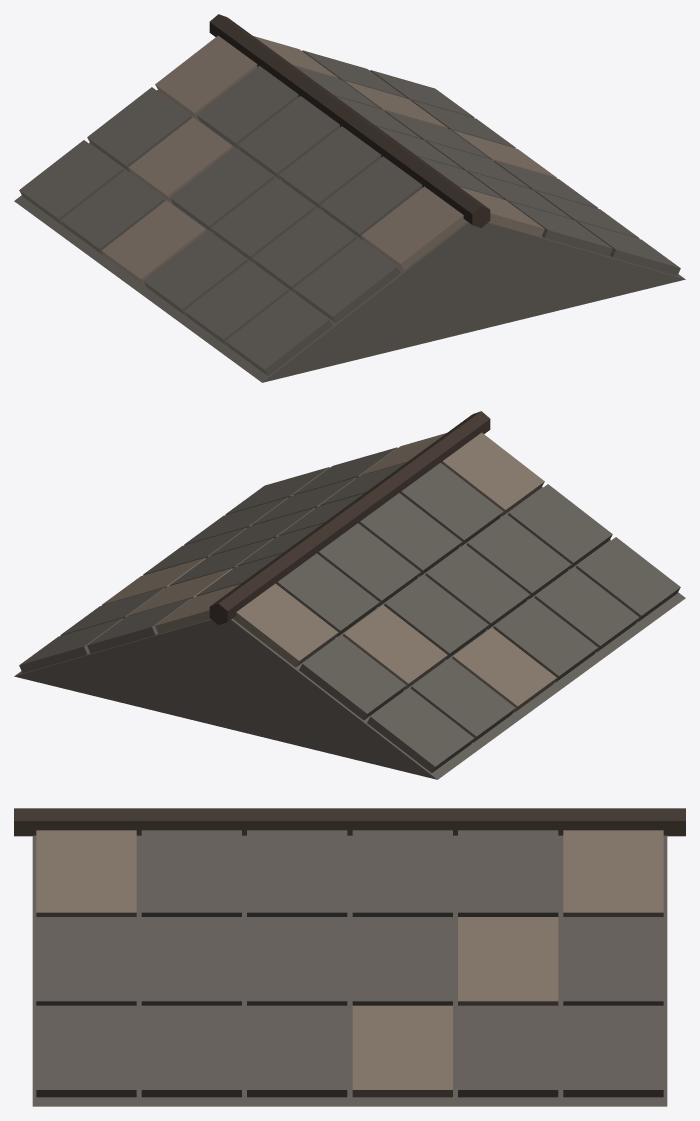
The model's file is roof.glb.
3 renders of one model, top to bottom at view 1: azimuth 30°, elevation 25°; view 2: azimuth 150°, elevation 25°; view 3: azimuth 270°, elevation 25°, orthographic. The views are drawn at different scales.
Visible parts, largest first — view 1: sagging pitched roof, ridge cap, overlapping roof shingle.006, overlapping roof shingle.012, overlapping roof shingle, overlapping roof shingle.009, overlapping roof shingle.010, overlapping roof shingle.007, overlapping roof shingle.015, overlapping roof shingle.008, overlapping roof shingle.013, overlapping roof shingle.011 (+26 smaller); view 2: sagging pitched roof, ridge cap, overlapping roof shingle.011, overlapping roof shingle.017, overlapping roof shingle.005, overlapping roof shingle.008, overlapping roof shingle.007, overlapping roof shingle.010, overlapping roof shingle.014, overlapping roof shingle.009, overlapping roof shingle.016, overlapping roof shingle.006 (+26 smaller); view 3: sagging pitched roof, ridge cap, overlapping roof shingle.030, overlapping roof shingle.035, overlapping roof shingle.031, overlapping roof shingle.032, overlapping roof shingle.033, overlapping roof shingle.034, overlapping roof shingle.024, overlapping roof shingle.025, overlapping roof shingle.026, overlapping roof shingle.027 (+8 smaller).
Part boxes in pixels (x1=…): sagging pitched roof: x1=14, y1=90, x2=685, y2=382; ridge cap: x1=209, y1=14, x2=490, y2=228; overlapping roof shingle.006: x1=293, y1=238, x2=400, y2=323; overlapping roof shingle.012: x1=225, y1=291, x2=332, y2=375; overlapping roof shingle: x1=361, y1=186, x2=466, y2=270; overlapping roof shingle.009: x1=170, y1=147, x2=274, y2=232; overlapping roof shingle.010: x1=128, y1=117, x2=233, y2=202; overlapping roof shingle.007: x1=252, y1=208, x2=356, y2=292; overlapping roof shingle.015: x1=101, y1=200, x2=206, y2=285; overlapping roof shingle.008: x1=211, y1=177, x2=315, y2=262; overlapping roof shingle.013: x1=184, y1=261, x2=289, y2=345; overlapping roof shingle.011: x1=87, y1=87, x2=191, y2=172; sagging pitched roof: x1=14, y1=487, x2=685, y2=779; ridge cap: x1=209, y1=411, x2=490, y2=625; overlapping roof shingle.011: x1=299, y1=635, x2=406, y2=720; overlapping roof shingle.017: x1=367, y1=688, x2=474, y2=772; overlapping roof shingle.005: x1=233, y1=583, x2=338, y2=667; overlapping roof shingle.008: x1=425, y1=544, x2=529, y2=629; overlapping roof shingle.007: x1=466, y1=514, x2=571, y2=599; overlapping roof shingle.010: x1=343, y1=605, x2=447, y2=689; overlapping roof shingle.014: x1=493, y1=597, x2=598, y2=682; overlapping roof shingle.009: x1=384, y1=574, x2=488, y2=659; overlapping roof shingle.016: x1=410, y1=658, x2=515, y2=742; overlapping roof shingle.006: x1=508, y1=484, x2=612, y2=569; sagging pitched roof: x1=32, y1=835, x2=667, y2=1106; ridge cap: x1=14, y1=808, x2=685, y2=836; overlapping roof shingle.030: x1=36, y1=1005, x2=136, y2=1097; overlapping roof shingle.035: x1=563, y1=1005, x2=663, y2=1097; overlapping roof shingle.031: x1=141, y1=1005, x2=241, y2=1097; overlapping roof shingle.032: x1=247, y1=1005, x2=347, y2=1097; overlapping roof shingle.033: x1=352, y1=1005, x2=452, y2=1097; overlapping roof shingle.034: x1=458, y1=1005, x2=558, y2=1097; overlapping roof shingle.024: x1=36, y1=917, x2=136, y2=1005; overlapping roof shingle.025: x1=141, y1=917, x2=241, y2=1005; overlapping roof shingle.026: x1=247, y1=917, x2=347, y2=1005; overlapping roof shingle.027: x1=352, y1=917, x2=452, y2=1005.
Bounding box in the file's own units: 1.34 × 0.393 × 1.44.
